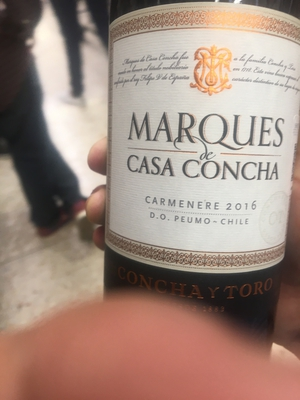marques de casa concha carmenere: (103, 5, 298, 342)
